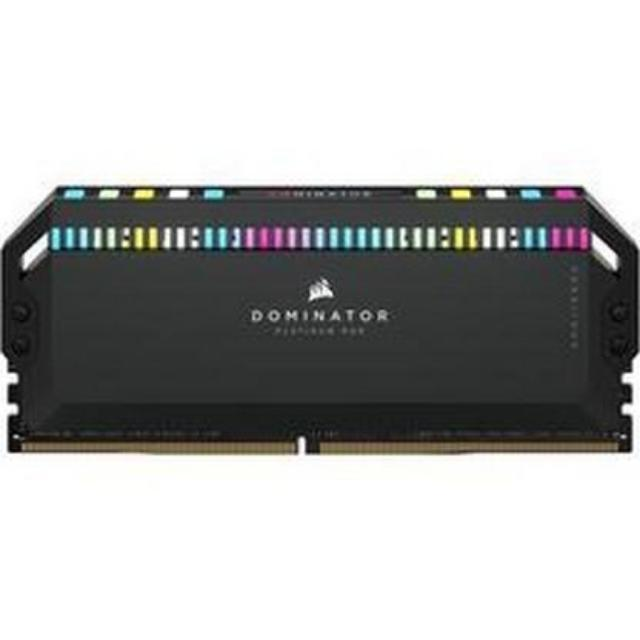RAM: (0, 173, 640, 467)
